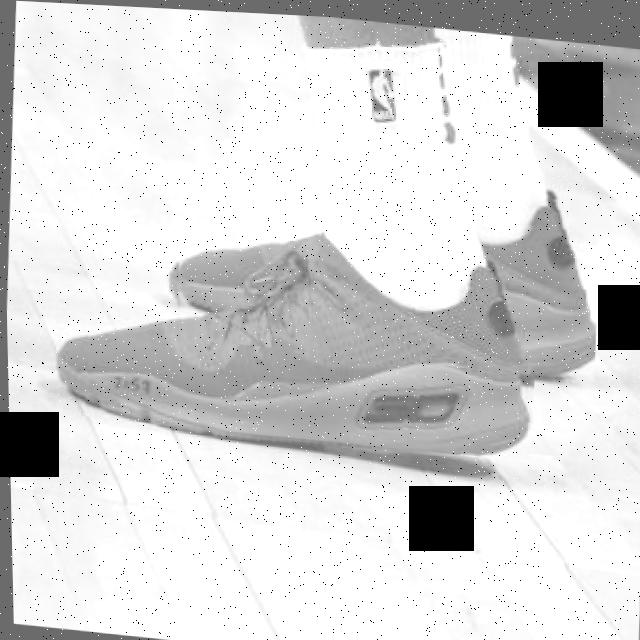shoe: (48, 197, 543, 458), (166, 152, 603, 375)
